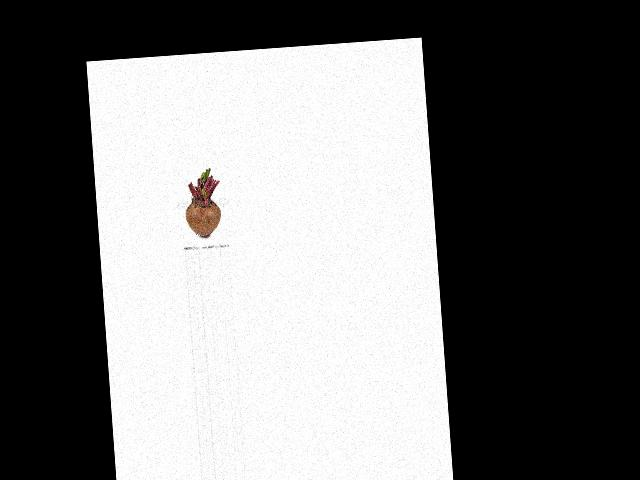beet: (181, 167, 223, 238)
